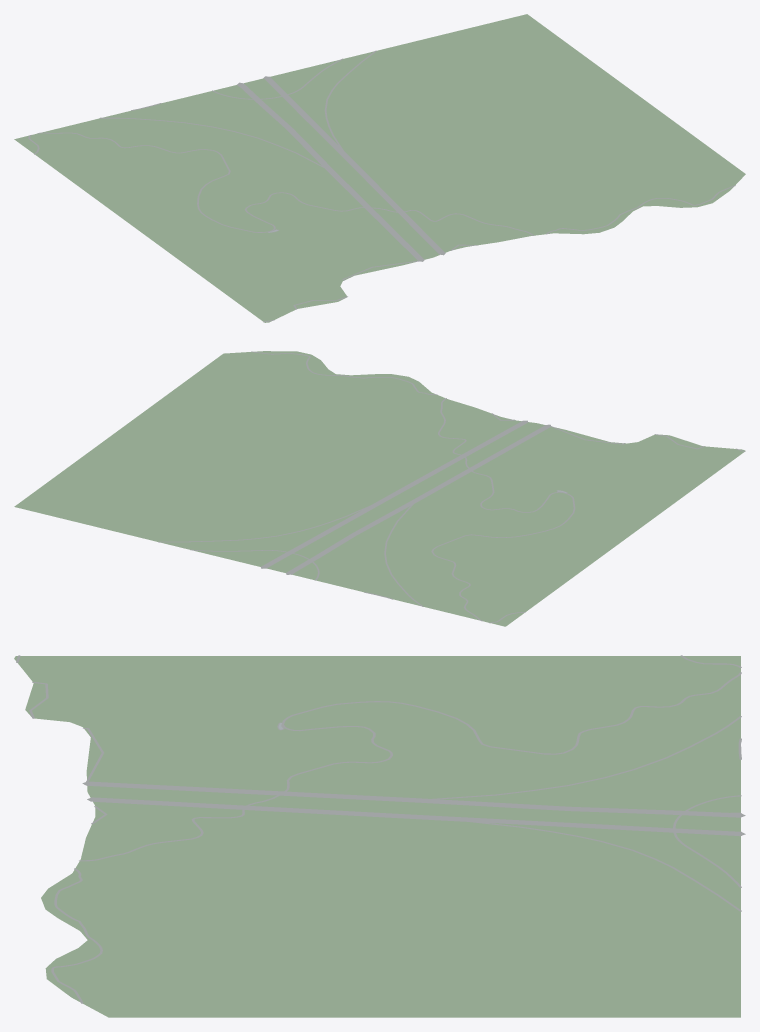
File: -2_5-known-coarse.glb
3 views of the same model, one above another, from view 1: azimuth 30°, elevation 25°; view 2: azimuth 150°, elevation 25°; view 3: azimuth 270°, elevation 25° (orthographic). The views are drawn at different scales.
Size of the model in its own units: 1002 by 0.15 by 855.
